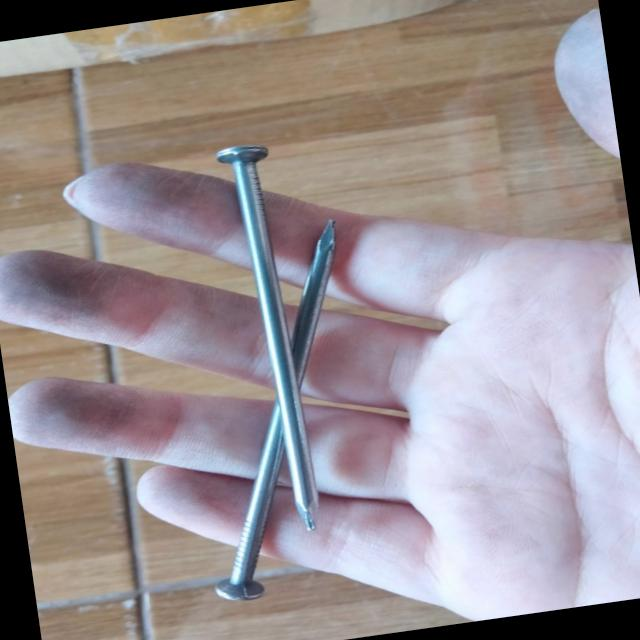3x10 nail: (112, 119, 410, 618)
